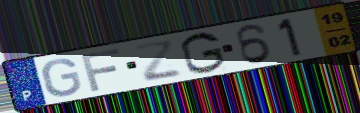1: (276, 17, 305, 58)
6: (234, 23, 274, 65)
F: (79, 47, 124, 93)
G: (179, 31, 228, 76), (40, 57, 84, 98)
Z: (132, 39, 184, 84)
